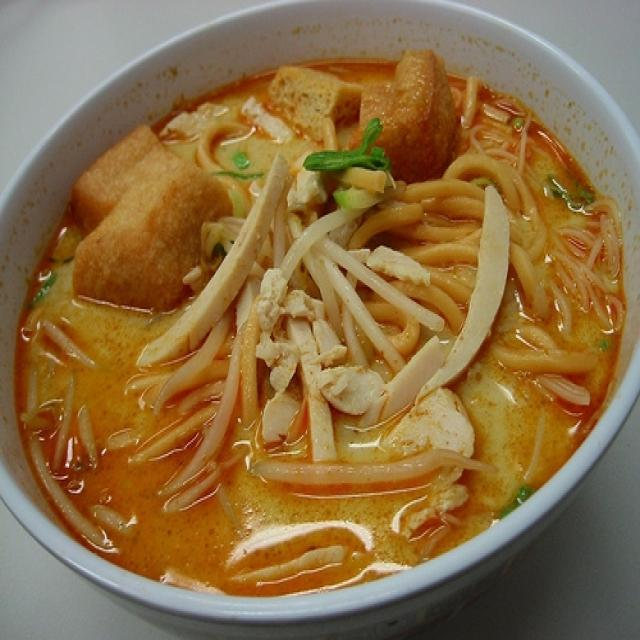面条主食: (13, 17, 630, 613)
